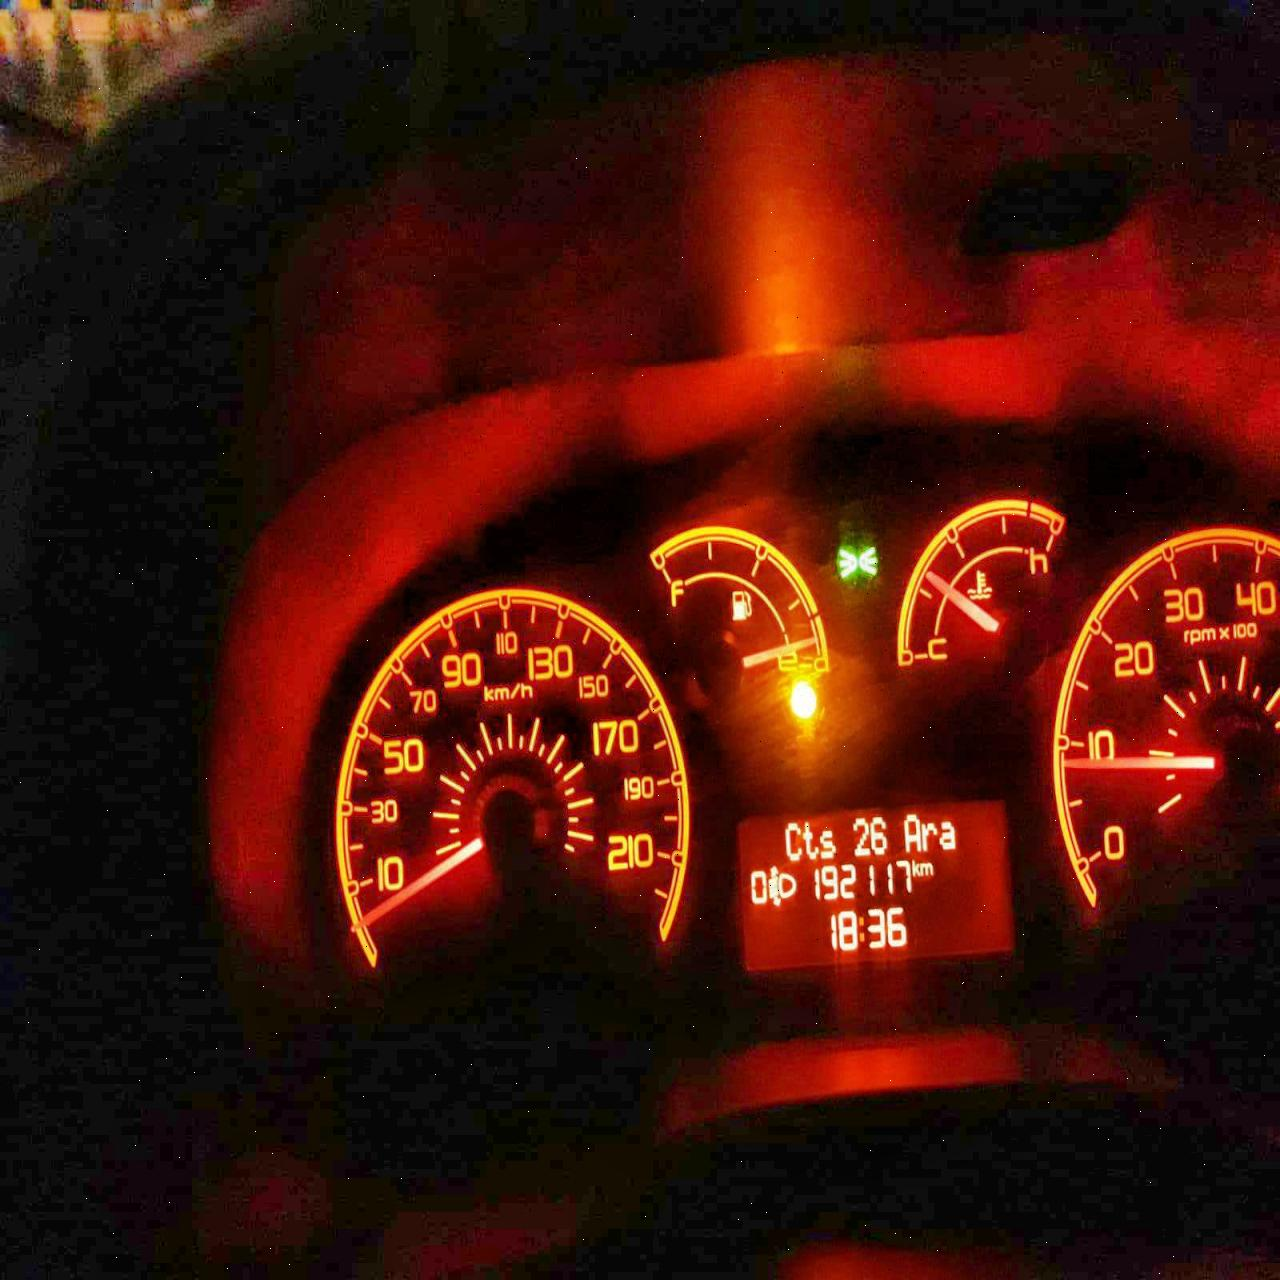0: (749, 869, 767, 904)
1: (828, 910, 838, 955), (866, 862, 877, 901), (884, 859, 893, 897), (811, 864, 821, 900)
2: (851, 815, 871, 856), (838, 863, 856, 900)
3: (865, 904, 885, 949)
6: (886, 904, 906, 949), (871, 813, 887, 855)
7: (897, 858, 911, 897)
8: (837, 908, 857, 951)
9: (821, 863, 837, 899)
X: (903, 812, 921, 852), (784, 821, 802, 860), (802, 822, 817, 860), (920, 821, 938, 851), (940, 818, 955, 850), (819, 829, 835, 858), (858, 912, 865, 945), (910, 858, 920, 877), (920, 860, 932, 877)
odometer: (730, 798, 1014, 968)
